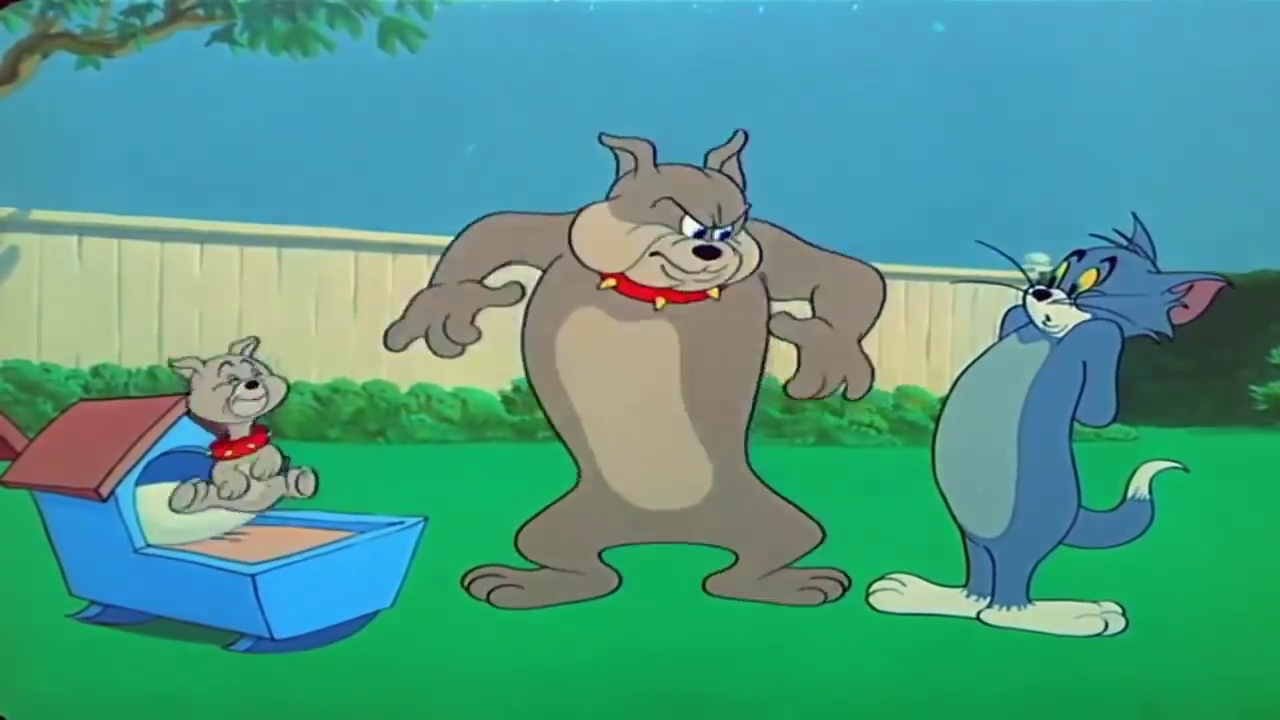spike: (566, 125, 768, 315)
tom: (1013, 213, 1242, 350)
